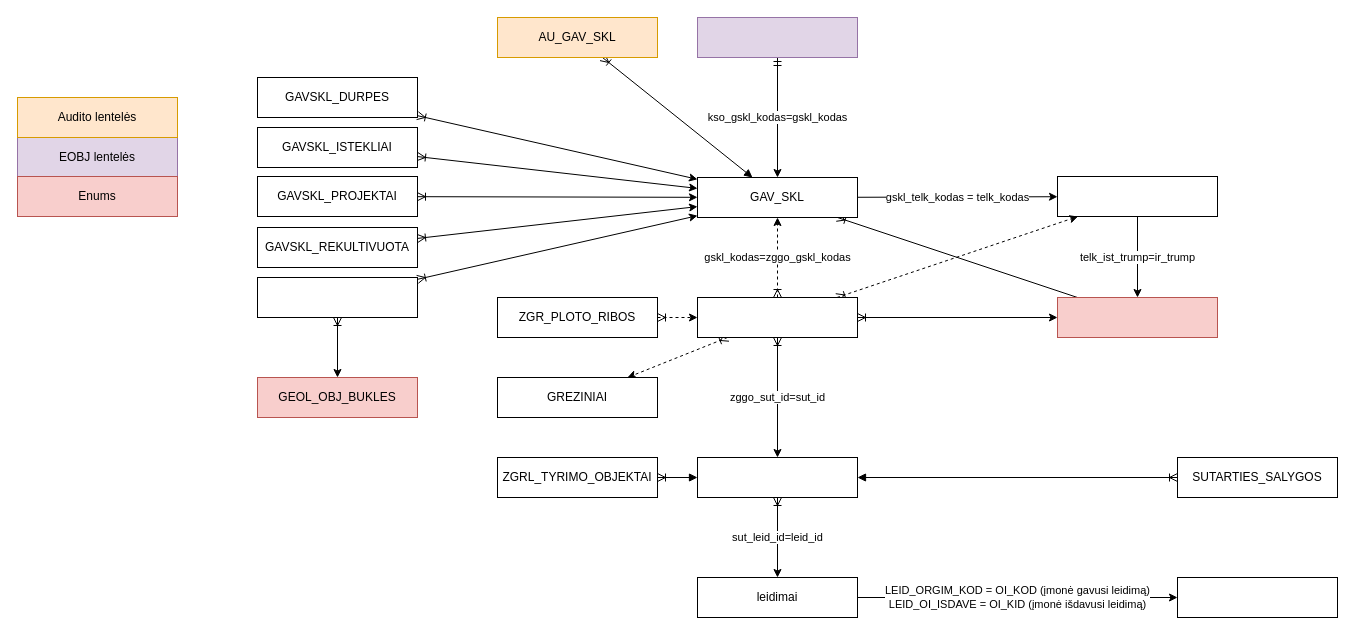
This 1355x635 diagram has some shape labels left out. Each missing label, with the centre of its shape:
GAVSKL_ZEMSKL: pixel 337 297
gis_kasybos_sklypu_eobj: pixel 777 37
istekliu_rusys: pixel 1137 317
ORGANIZACIJOS_IMONES: pixel 1257 597
sutartys: pixel 777 477
telkiniai: pixel 1137 196
zgrl_gavybos_objektai: pixel 777 317
